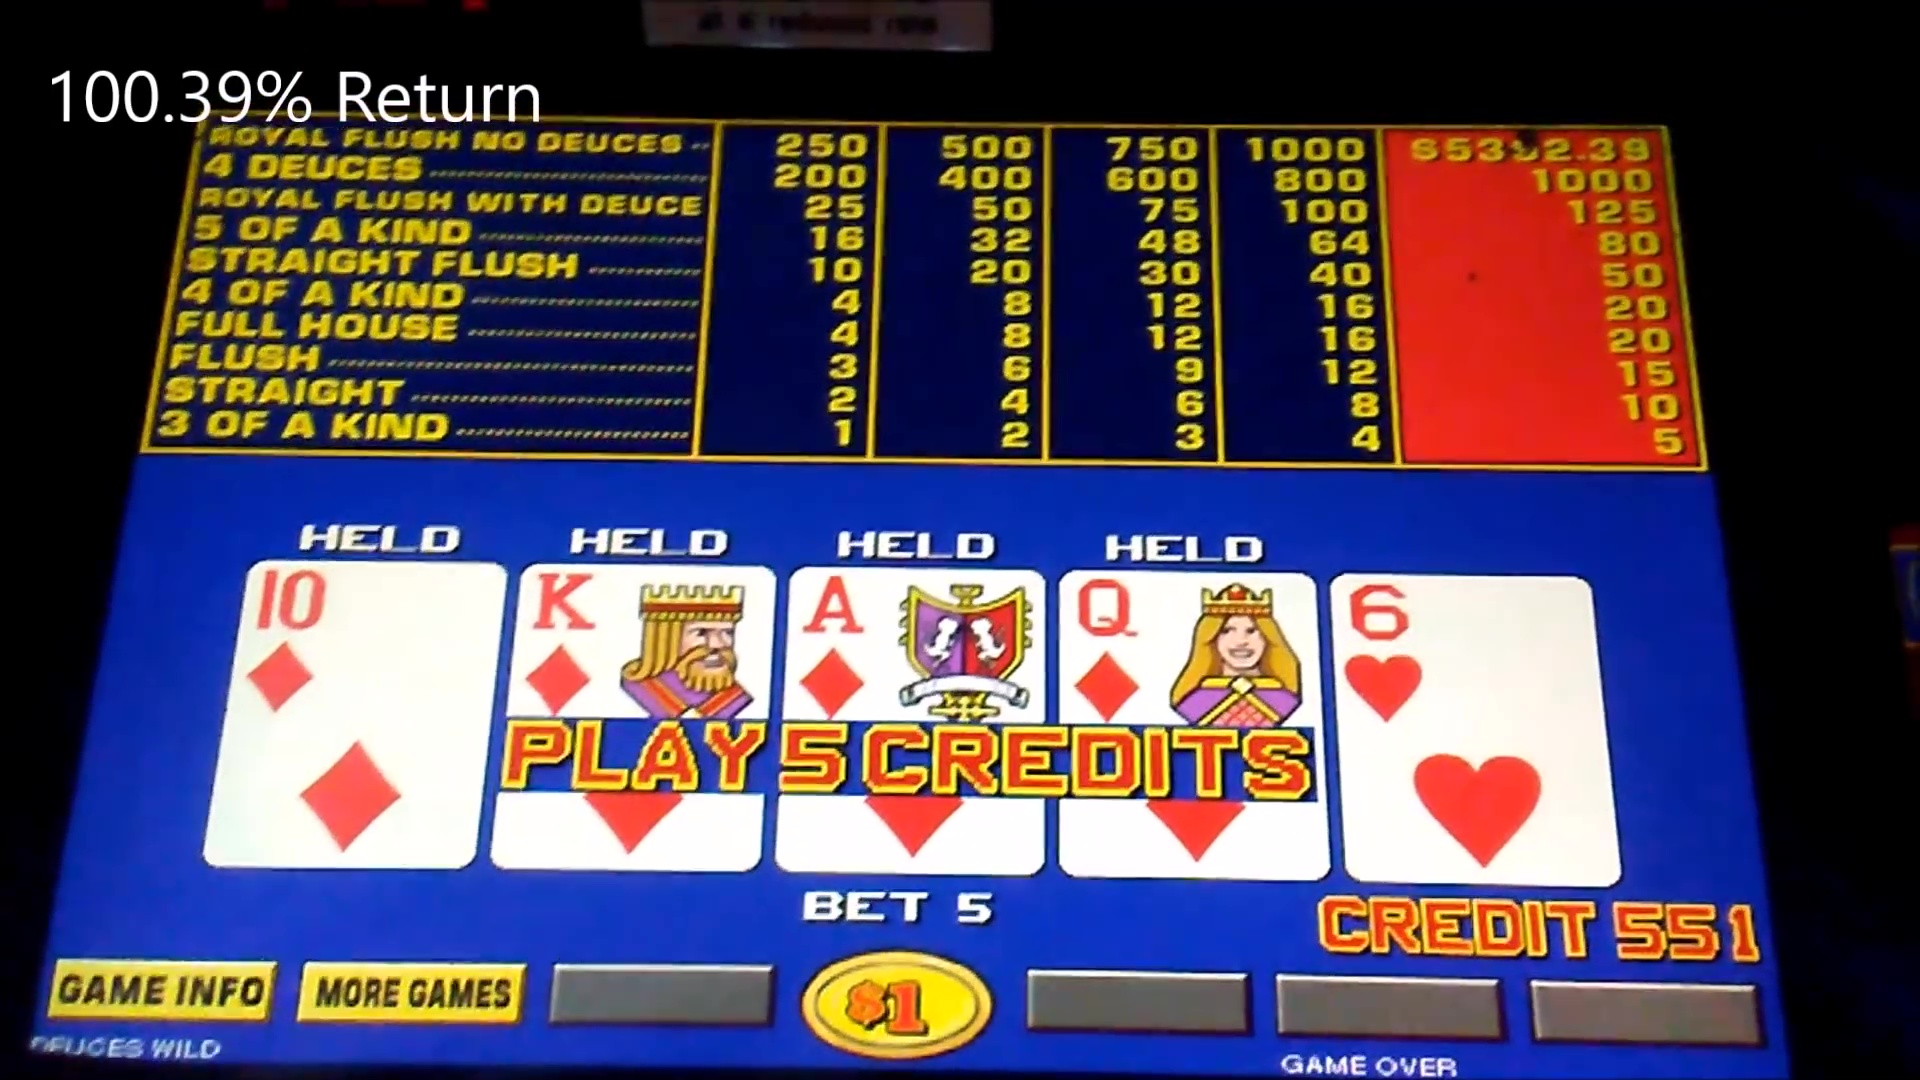DA: (798, 571, 1043, 713)
DK: (526, 568, 760, 709)
DQ: (1063, 568, 1313, 717)
DT: (244, 562, 483, 717)
H6: (1332, 579, 1586, 729)
